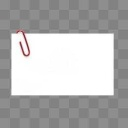Metal: (5, 23, 40, 63)
